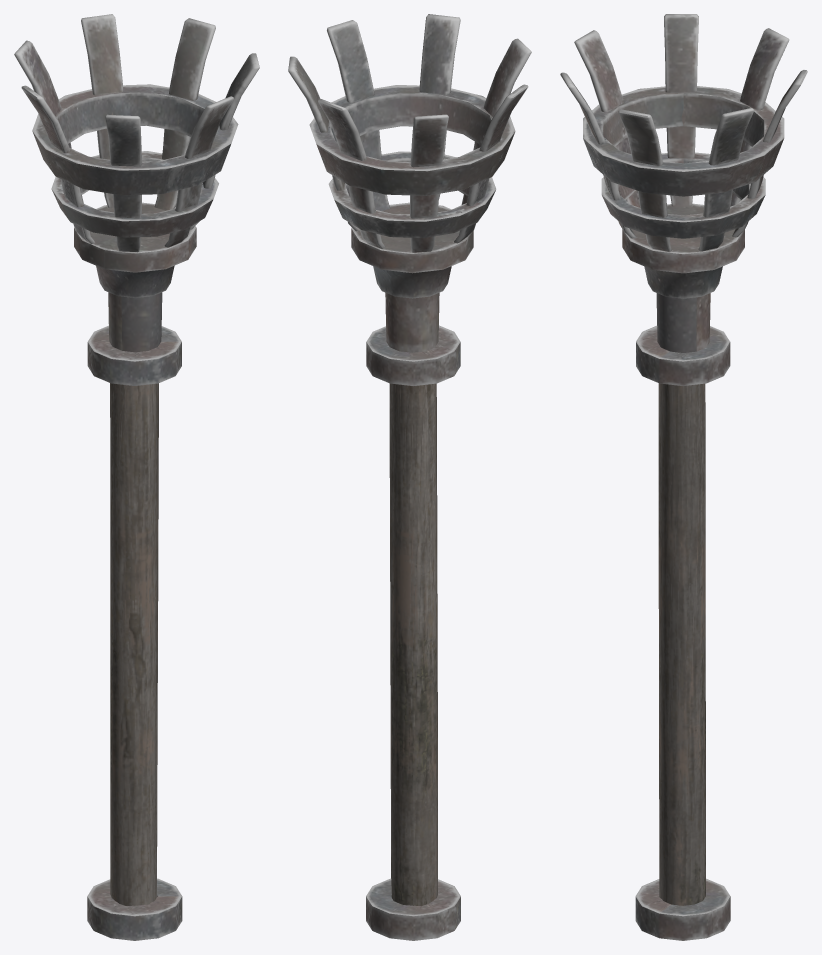
File: SM_Stand_Torch.fbx
3 renders of one model, left to right at view 1: azimuth 30°, elevation 25°; view 2: azimuth 150°, elevation 25°; view 3: azimuth 270°, elevation 25°, orthographic.
Visible parts, largest first — view 1: SM_Stand_Torch_LOD0; view 2: SM_Stand_Torch_LOD0; view 3: SM_Stand_Torch_LOD0.
Boxes of the visible parts, x1=… form: SM_Stand_Torch_LOD0: x1=14, y1=14, x2=259, y2=940; SM_Stand_Torch_LOD0: x1=288, y1=14, x2=531, y2=940; SM_Stand_Torch_LOD0: x1=560, y1=14, x2=807, y2=940.
Bounding box in the file's own units: 45.56 × 46.44 × 177.
